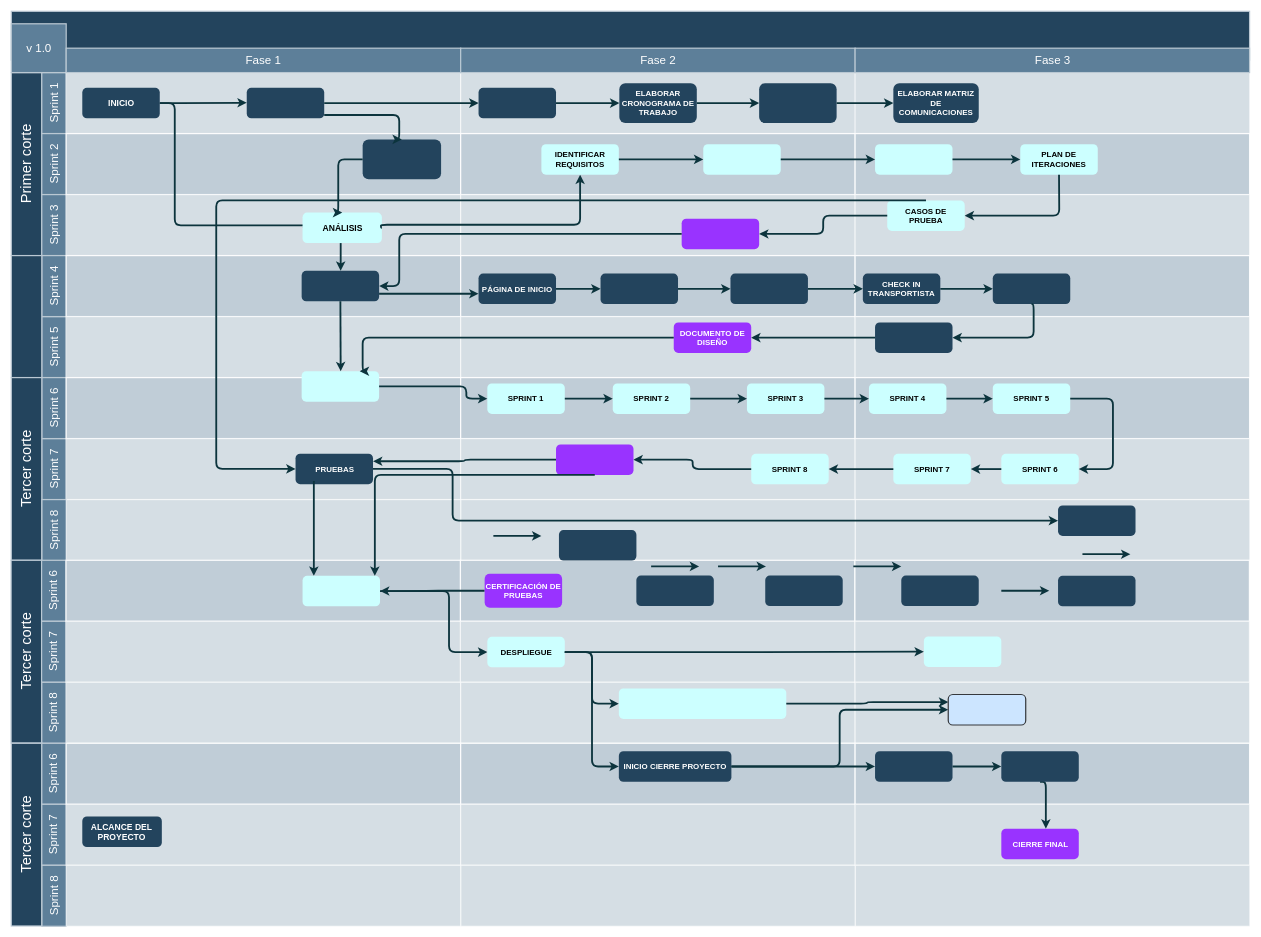
This 1261x937 diagram has some shape labels left out. The box of each missing label's shape, as (x1, y1, x2, y2) in pixels:
AJUSTAR INTEGRACIONES EXTERNAS: (619, 688, 786, 719)
ASIGNACIÓN EQUIPO DE TRABAJO: (362, 139, 441, 179)
ASIGNAR PRESUPUESTO: (478, 88, 556, 118)
BÚSQUEDA SERVICIO: (992, 273, 1070, 304)
CAPACITACIONES: (924, 636, 1001, 667)
COTIZACIÓN: (875, 322, 952, 353)
CÓDIGO FUENTE: (556, 444, 633, 475)
DESARROLLO: (301, 371, 379, 401)
DISEÑO PROTOTIPOS: (301, 271, 379, 301)
DOCUMENTO DE ANÁLISIS: (681, 218, 759, 249)
DOCUMENTO LECCIONES APRENDIDAS: (875, 751, 952, 781)
ELABORAR MATRIZ DE RIESGOS: (759, 83, 836, 123)
ESPECIFICAR REQUISITOS: (703, 144, 780, 174)
ESTABILIZACIÓN: (947, 694, 1026, 725)
IMPLEMENTACIÓN: (302, 576, 380, 606)
INFORME DE RESULTADOS: (1001, 751, 1078, 781)
PLANEACIÓN: (246, 88, 324, 118)
PRUEBAS UNITARIAS: (1058, 505, 1135, 536)
REGISTRO: (600, 273, 678, 304)
Segundo corte: (10, 255, 42, 378)
SOLICITUD SERVICIO: (730, 273, 808, 304)
TANENEKA: (10, 10, 1250, 60)
VALIDAR REQUISITOS: (875, 144, 952, 174)
